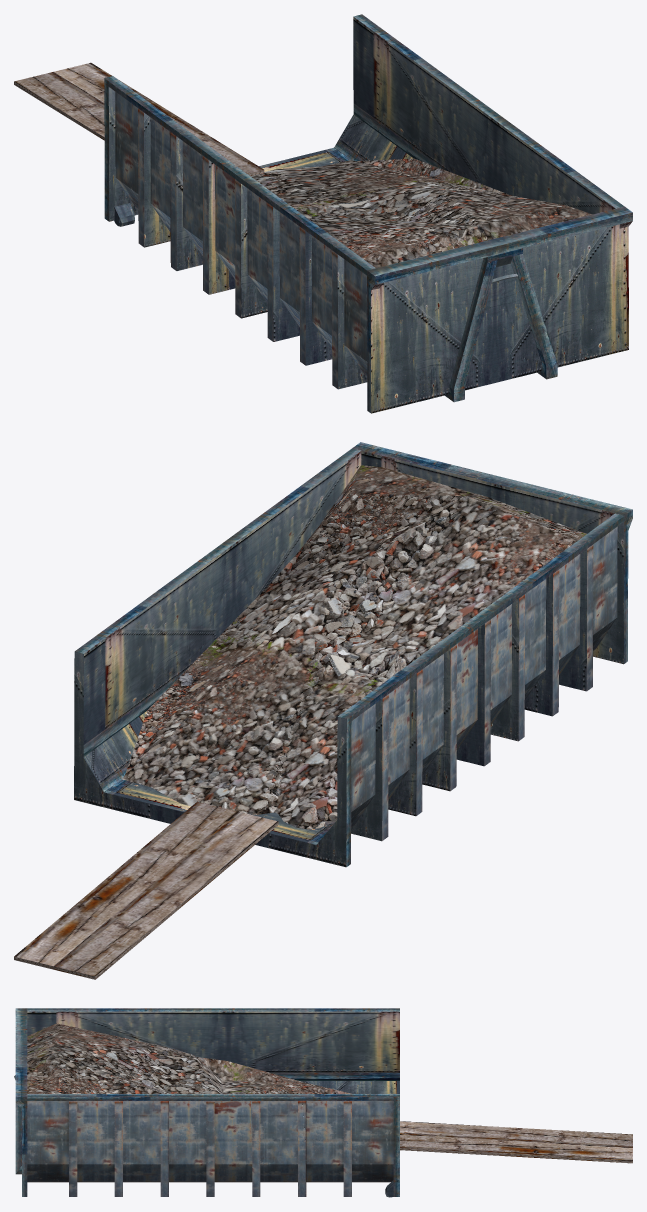
File: DumpsterDirty02.FBX
3 renders of one model, top to bottom at view 1: azimuth 30°, elevation 25°; view 2: azimuth 150°, elevation 25°; view 3: azimuth 270°, elevation 25°, orthographic. The views are drawn at different scales.
Parts seen in each view (by area): view 1: DumpsterDirty02, DumpsterDirty02Gravel, DumpsterDirty02Wood; view 2: DumpsterDirty02, DumpsterDirty02Gravel, DumpsterDirty02Wood; view 3: DumpsterDirty02, DumpsterDirty02Gravel, DumpsterDirty02Wood.
Part boxes in pixels (bbox=[...]): DumpsterDirty02: bbox=[104, 14, 632, 413]; DumpsterDirty02Gravel: bbox=[251, 158, 592, 267]; DumpsterDirty02Wood: bbox=[14, 62, 264, 176]; DumpsterDirty02: bbox=[74, 442, 632, 867]; DumpsterDirty02Gravel: bbox=[122, 465, 586, 829]; DumpsterDirty02Wood: bbox=[14, 801, 278, 979]; DumpsterDirty02: bbox=[14, 1008, 399, 1197]; DumpsterDirty02Gravel: bbox=[27, 1023, 351, 1093]; DumpsterDirty02Wood: bbox=[400, 1121, 632, 1163].
Bounding box in the file's own units: 3499 × 1891 × 10240.
